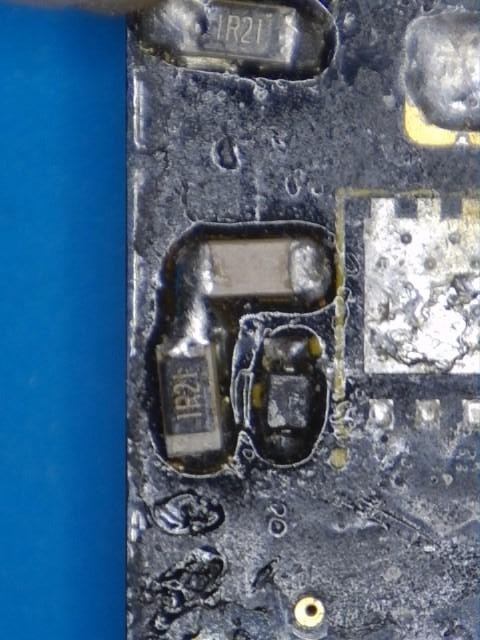pcb_defect: (155, 322, 231, 463), (162, 239, 229, 355)
